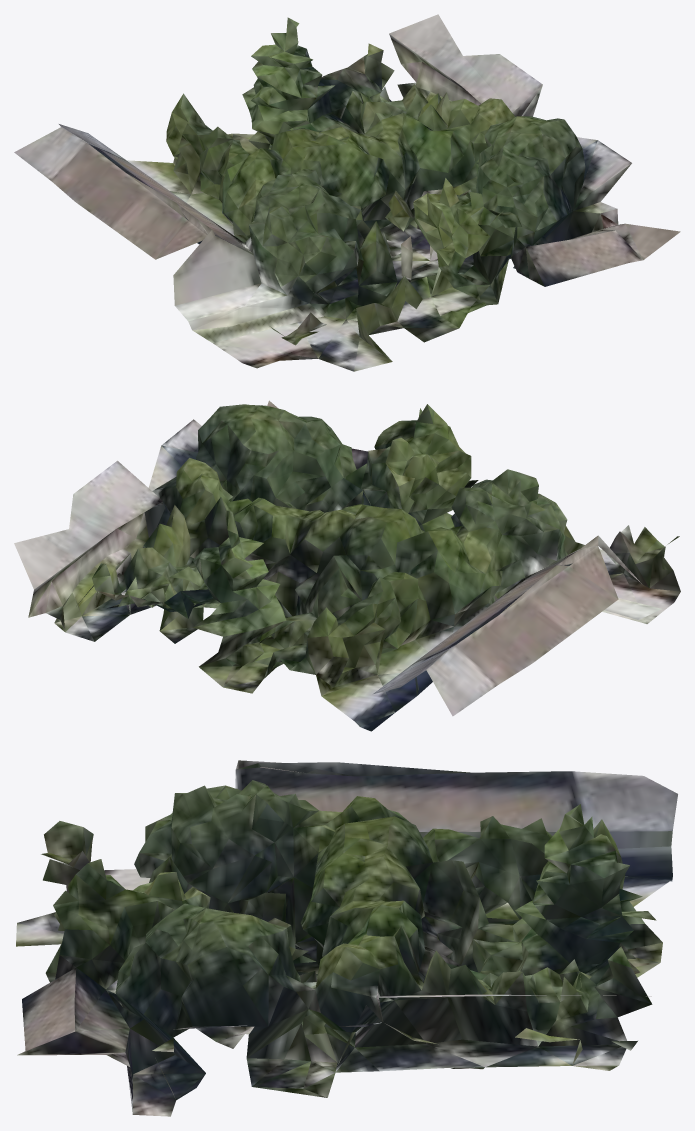
The model's file is Tile_+004_+003_L17_00.glb.
The picture shows the model from 3 angles, top to bottom: view 1: azimuth 30°, elevation 25°; view 2: azimuth 150°, elevation 25°; view 3: azimuth 270°, elevation 25°; orthographic projection. The views are drawn at different scales.
Visible parts, largest first — view 1: rtc; view 2: rtc; view 3: rtc.
Boxes of the visible parts, x1=… form: rtc: x1=14, y1=14, x2=680, y2=371; rtc: x1=14, y1=400, x2=680, y2=731; rtc: x1=16, y1=760, x2=677, y2=1116.
Size of the model in its own units: 60.63 by 21.69 by 61.05.
1 material, 1 textured.
